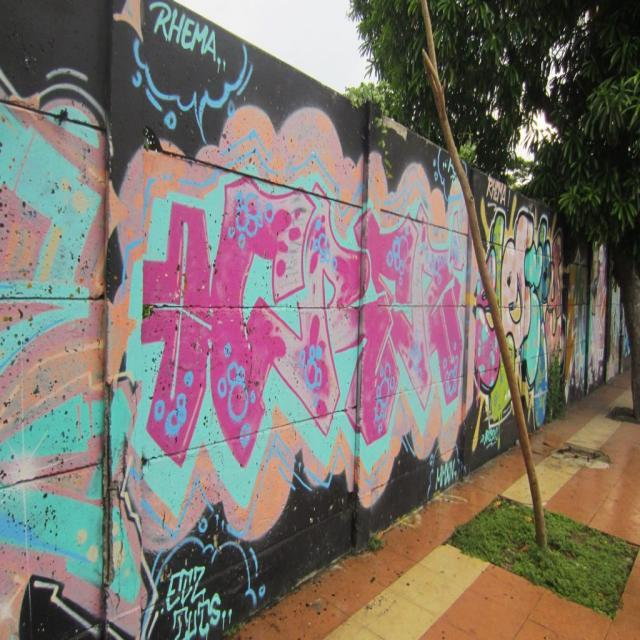-: (0, 63, 476, 640), (482, 211, 590, 444), (132, 1, 253, 145), (141, 515, 264, 640), (434, 152, 466, 200), (484, 178, 507, 202)
